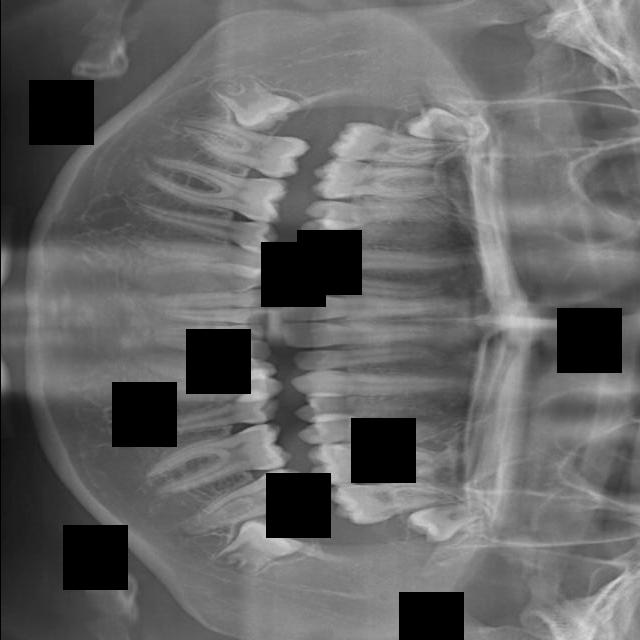3M ESPE Implant: (402, 103, 483, 143)
AGS Medikal Implant: (173, 462, 319, 539)
AMerOss Implant: (139, 418, 295, 498)
Amalgam filling: (324, 117, 468, 174)
Anthogyr Implant: (130, 396, 284, 441)
Bicon Implant: (127, 376, 285, 408)
BioHorizons Implant: (139, 358, 277, 382)
BioLife Implant: (155, 336, 272, 360)
Biomet 3i Implant: (151, 318, 266, 341)
Blue Sky Bio Implant: (159, 308, 269, 323)
Camlog Implant: (252, 288, 253, 289)
Caries: (290, 344, 444, 370)
Composite filling: (141, 265, 277, 294)
Cowellmedi Implant: (113, 228, 285, 278)
Crown: (129, 200, 281, 250)
DENTSPLY Implant: (309, 157, 446, 210)
Dentatus Implant: (138, 151, 292, 225)
Dentis Implant: (172, 114, 311, 183)
Dentium Implant: (200, 60, 301, 147)
Euroteknika Implant: (304, 200, 445, 222)
Filling: (297, 218, 443, 250)
Frontier Implant: (292, 245, 470, 277)
Hiossen Implant: (290, 369, 460, 395)
Implant: (278, 288, 444, 322)
Implant Direct: (289, 269, 441, 300)
Keystone Dental Implant: (280, 318, 443, 349)
MIS Implant: (293, 396, 443, 416)
Mandible: (290, 412, 452, 451)
Maxilla: (306, 440, 439, 485)
Megagen Implant: (400, 490, 449, 498)
Neodent Implant: (402, 500, 488, 547)
Neoss Implant: (204, 502, 307, 589)
